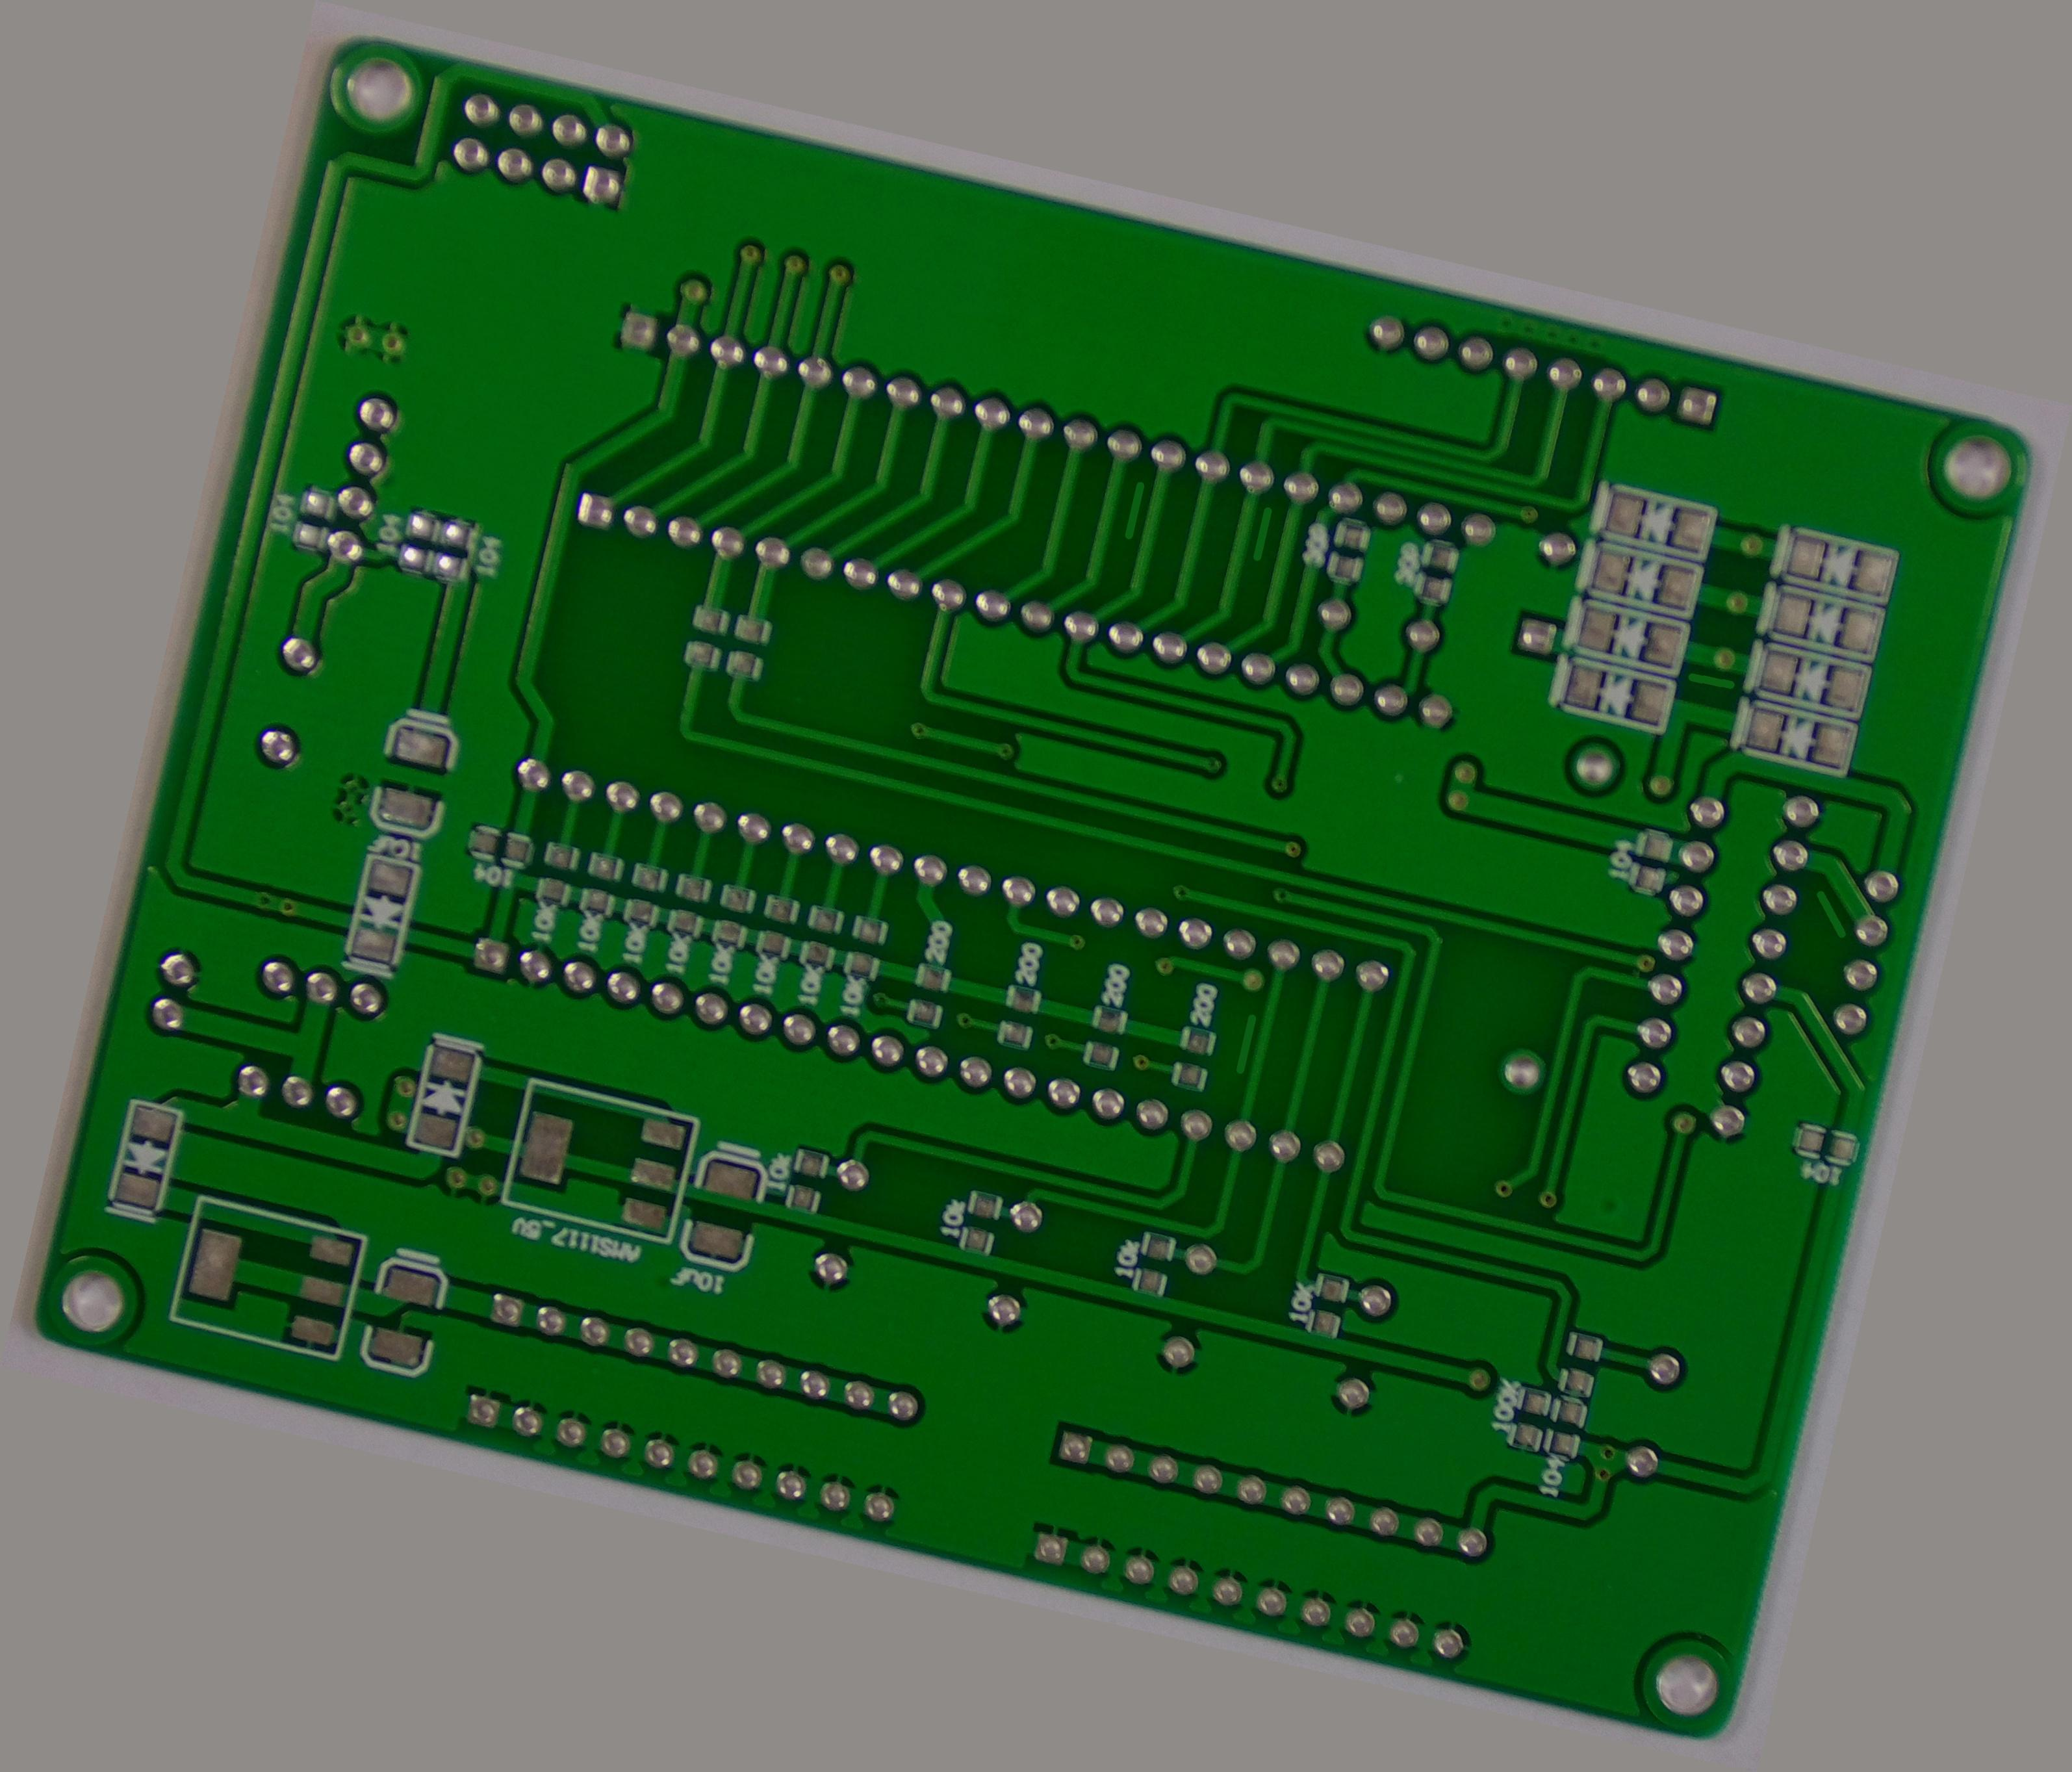spurious_copper: (1794, 879, 1861, 951), (1235, 492, 1290, 571), (1218, 1002, 1269, 1079), (1111, 469, 1160, 548), (1680, 656, 1745, 700)
